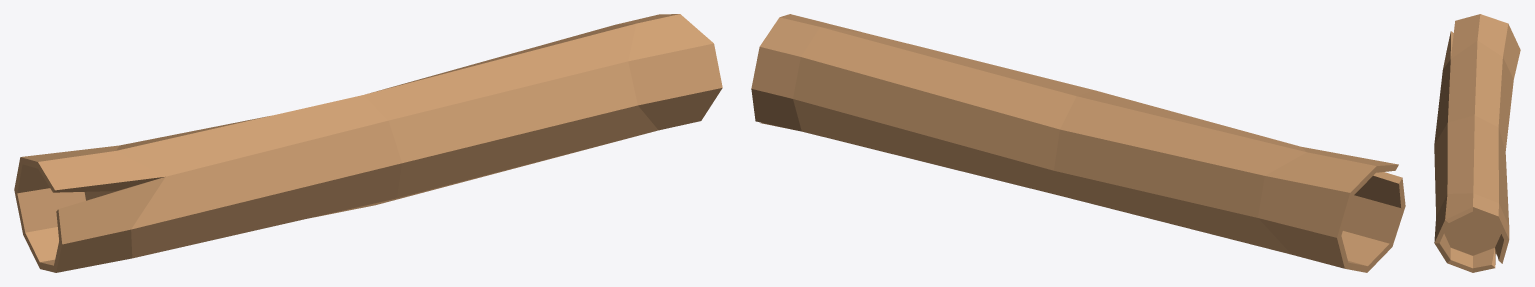
Rendered from horizontallog.fbx.
3 renders of one model, left to right at view 1: azimuth 30°, elevation 25°; view 2: azimuth 150°, elevation 25°; view 3: azimuth 270°, elevation 25°, orthographic. The views are drawn at different scales.
Parts seen in each view (by area): view 1: PineLog; view 2: PineLog; view 3: PineLog.
Part boxes in pixels (box(x1,y1,x2,y2)): PineLog: box(14, 14, 722, 272); PineLog: box(751, 14, 1405, 272); PineLog: box(1434, 14, 1520, 272).
Bounding box in the file's own units: 2.49 × 0.4145 × 0.4645.
